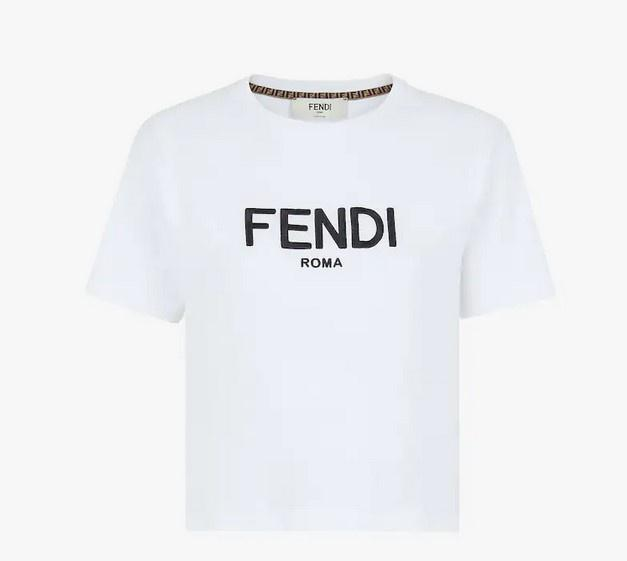FENDI: (244, 207, 397, 248), (309, 103, 332, 111)
